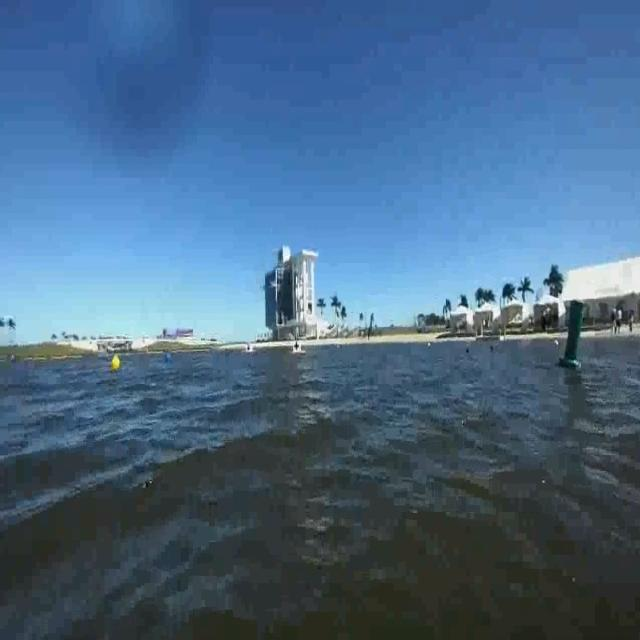blue-buoy: (164, 348, 175, 367)
green-column-buoy: (559, 302, 586, 369)
yellow-buoy: (113, 354, 124, 372)
